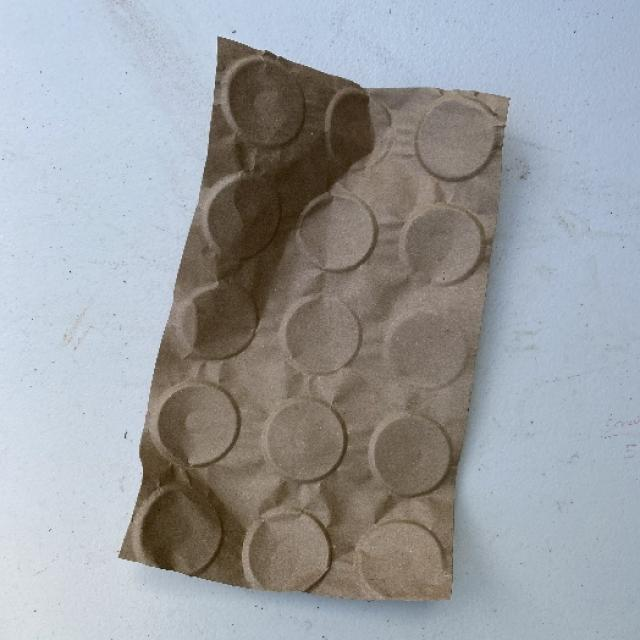kertas: (115, 29, 511, 608)
